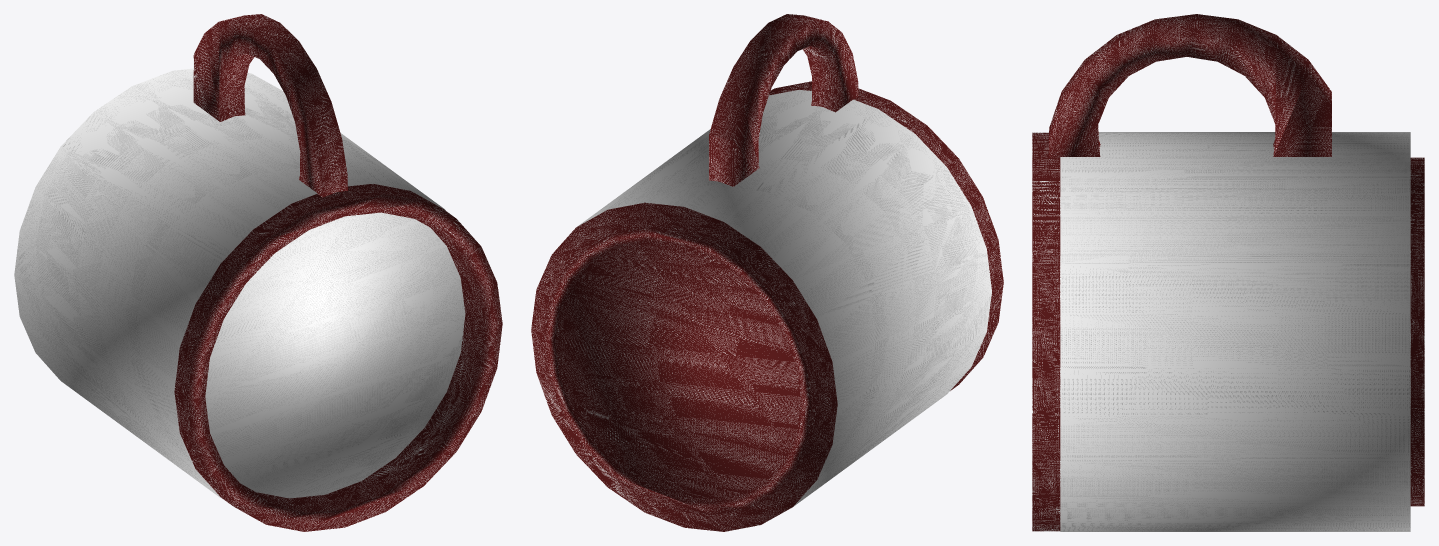
Rendered from model_scale.obj.
The picture shows the model from 3 angles, left to right: view 1: azimuth 30°, elevation 25°; view 2: azimuth 150°, elevation 25°; view 3: azimuth 270°, elevation 25°; orthographic projection. The views are drawn at different scales.
Parts seen in each view (by area): view 1: mesh2_mesh2-geometry, mesh1_mesh1-geometry; view 2: mesh2_mesh2-geometry, mesh1_mesh1-geometry; view 3: mesh2_mesh2-geometry, mesh1_mesh1-geometry.
Boxes of the visible parts, box(x1,y1,x2,y2) form: mesh2_mesh2-geometry: box(14, 68, 502, 531); mesh1_mesh1-geometry: box(193, 14, 347, 197); mesh2_mesh2-geometry: box(531, 81, 1003, 531); mesh1_mesh1-geometry: box(709, 14, 858, 186); mesh2_mesh2-geometry: box(1032, 132, 1424, 531); mesh1_mesh1-geometry: box(1049, 14, 1331, 157).
Bounding box in the file's own units: 0.086 × 0.1162 × 0.084.
